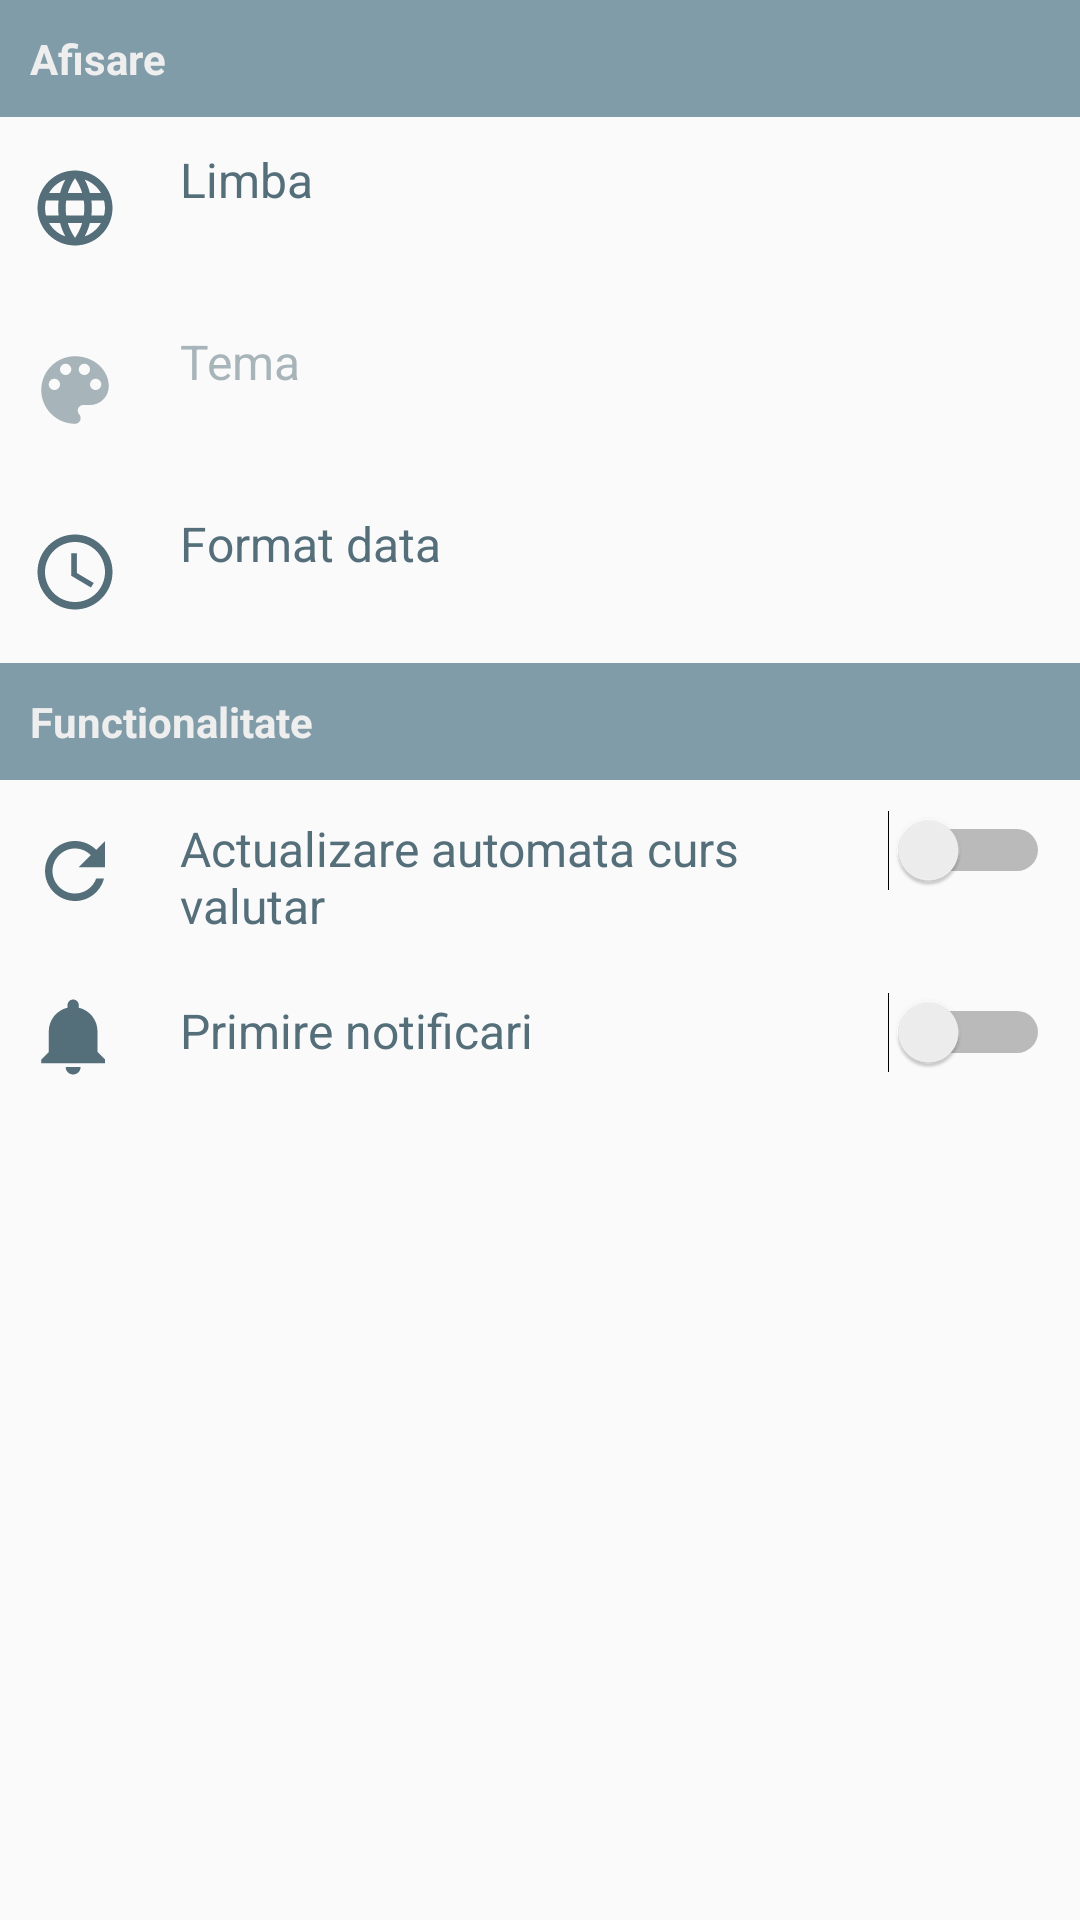

Icons on this 1080px×1920px Android screen, each with the point to tap as (x=x, y=y):
access time: (x=75, y=572)
language: (x=75, y=208)
notifications: (x=73, y=1037)
refresh: (x=75, y=871)
